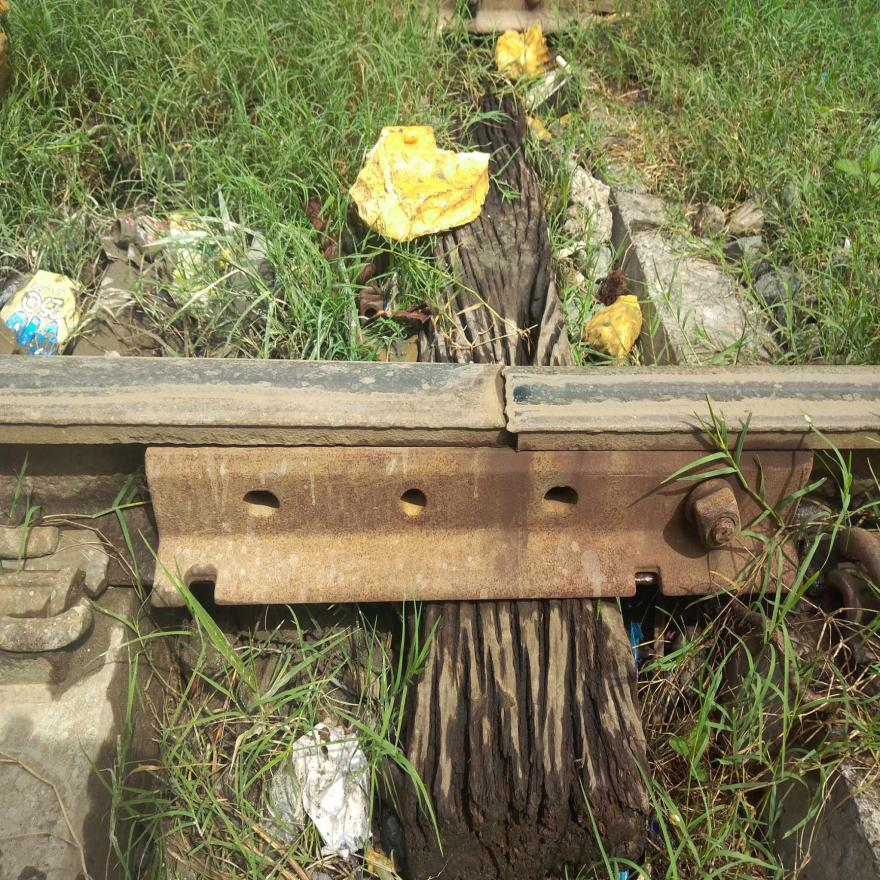railway-gap: (455, 334, 555, 468)
